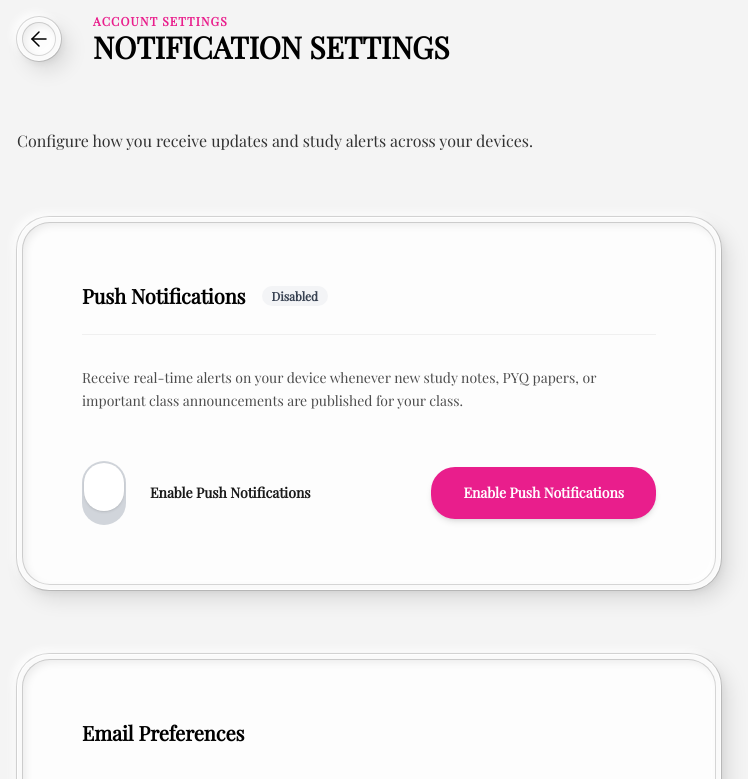
it: NotificationSettings Component › displays user-friendly error state on network or backend failure
Click the button "Enable Push Notifications".
click(544, 492)  # box [432, 466, 656, 518]
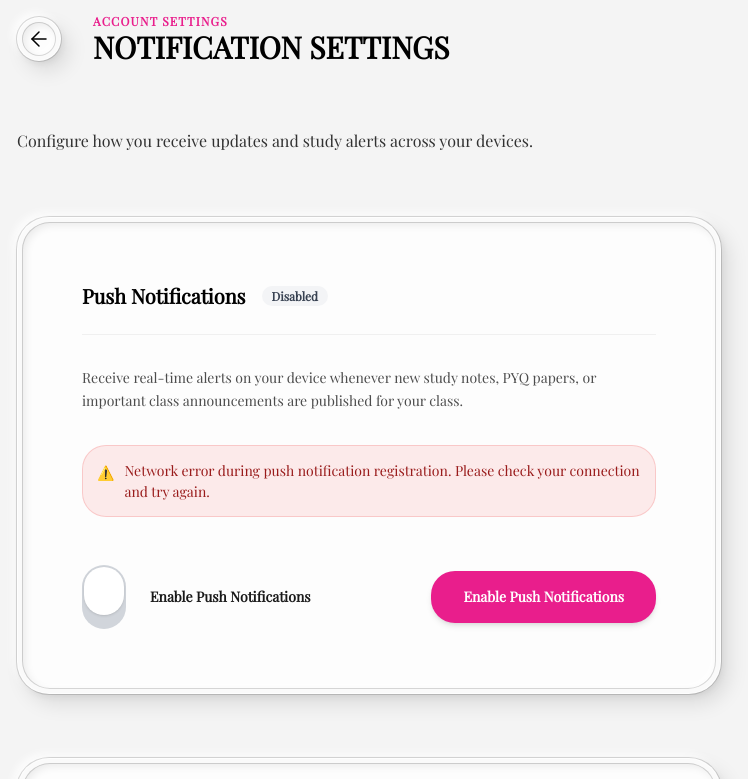
Now the message shows "Network error during push notification registration", box [124, 460, 640, 500]
